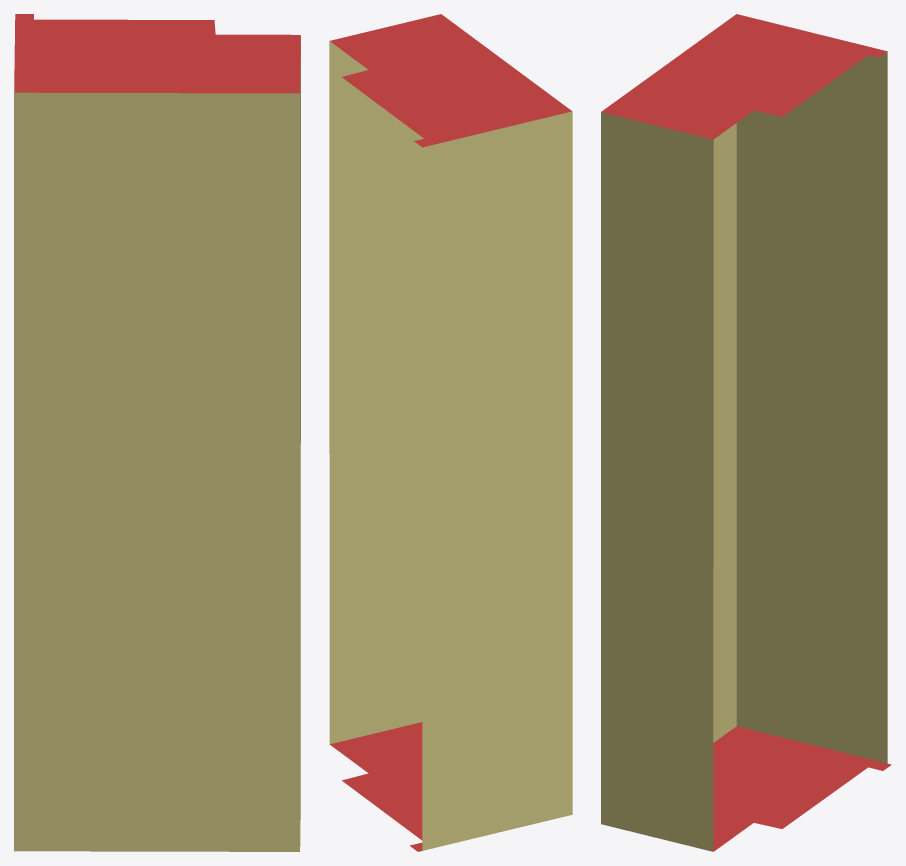
3 views of the same model, side by side, from view 1: azimuth 30°, elevation 25°; view 2: azimuth 150°, elevation 25°; view 3: azimuth 270°, elevation 25° (orthographic). The views are drawn at different scales.
Visible parts, largest first — view 1: group_4, group_3; view 2: group_4, group_3, group_5; view 3: group_4, group_3, group_5.
Boxes of the visible parts, x1=… form: group_4: x1=14, y1=35, x2=300, y2=851; group_3: x1=14, y1=14, x2=300, y2=93; group_4: x1=329, y1=41, x2=572, y2=850; group_3: x1=330, y1=14, x2=571, y2=147; group_5: x1=330, y1=722, x2=422, y2=851; group_4: x1=601, y1=51, x2=887, y2=851; group_3: x1=601, y1=14, x2=886, y2=139; group_5: x1=713, y1=726, x2=891, y2=851.
Size of the model in its own units: 4.37 by 4.28 by 11.55.
